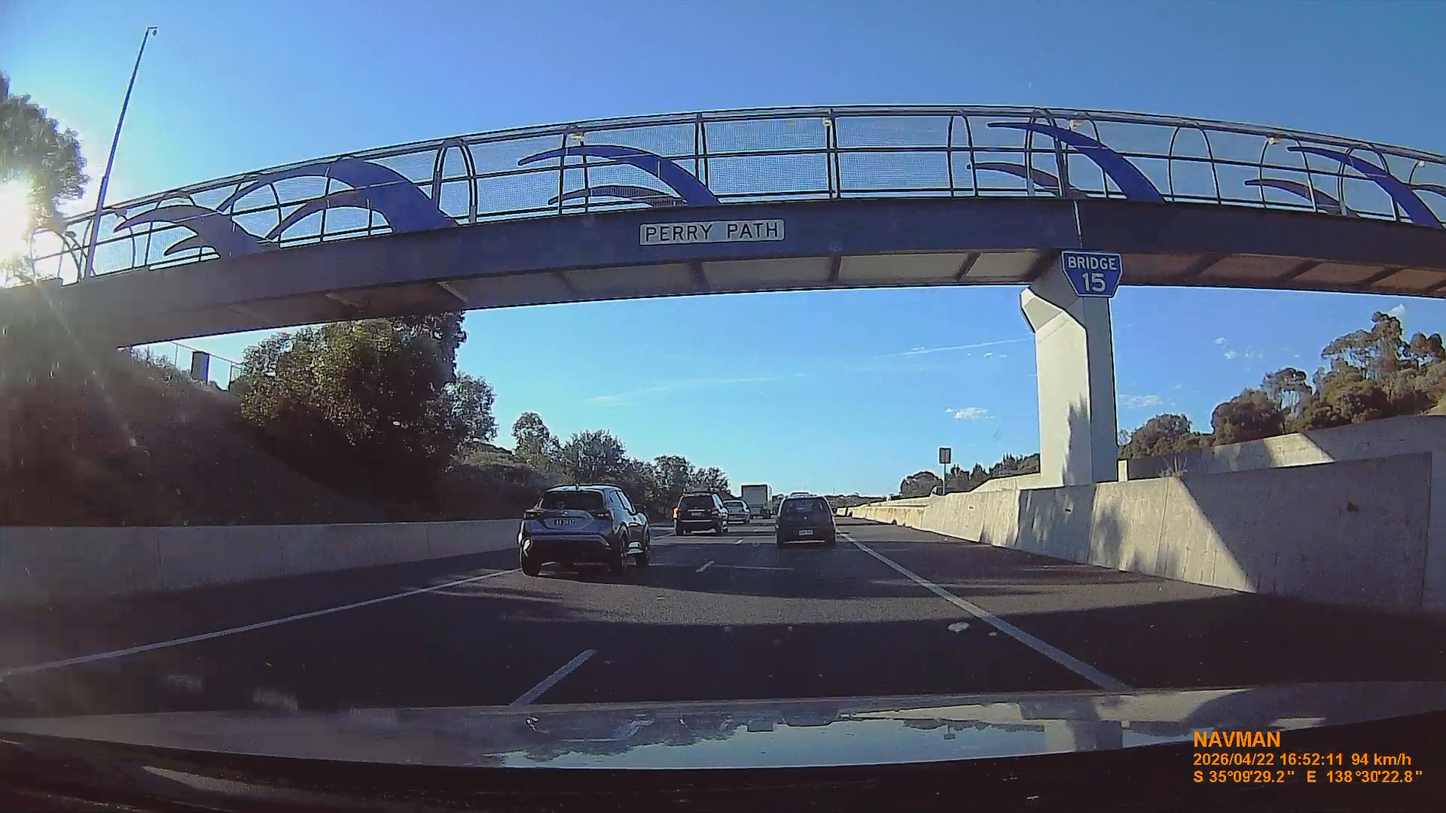fences: (150, 345, 242, 390)
road barriers: (870, 416, 1445, 612), (0, 519, 517, 606)
